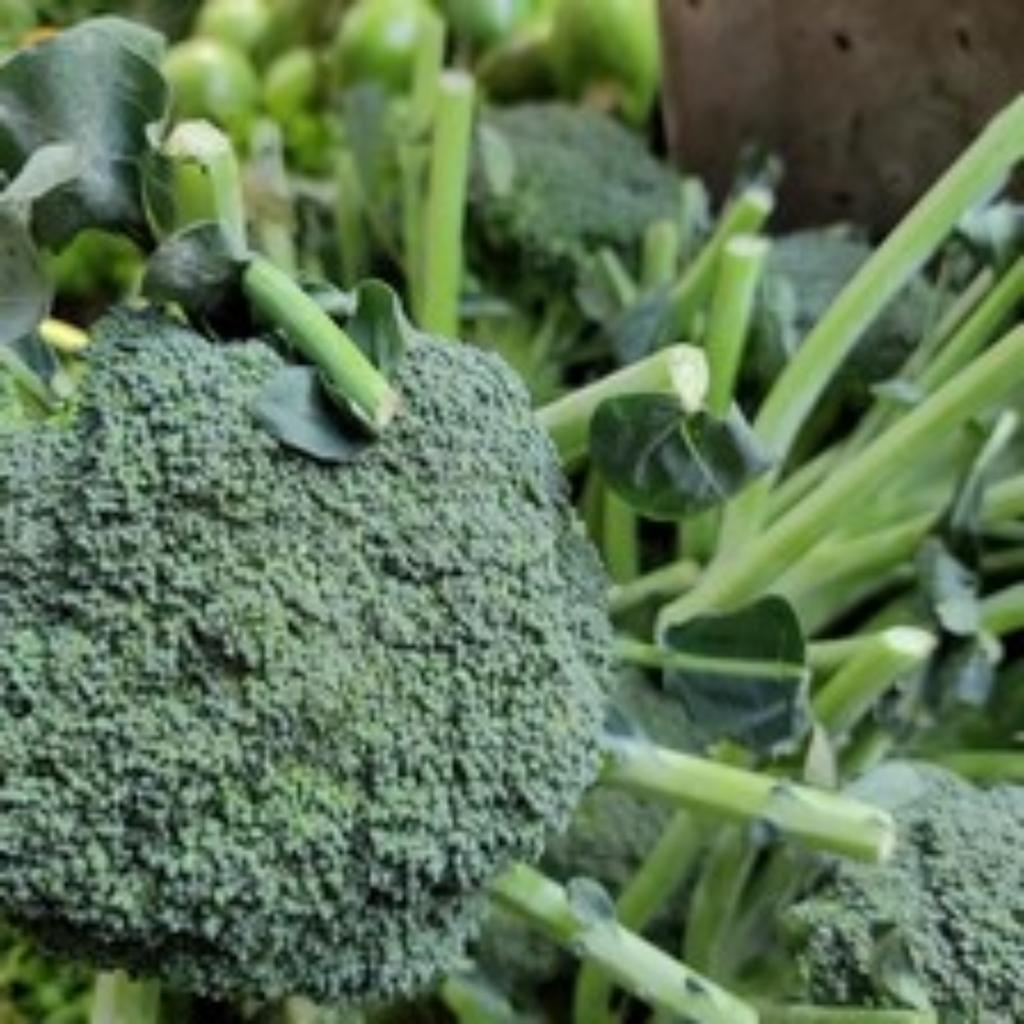Broccoli: (0, 312, 610, 997), (0, 314, 610, 997)
